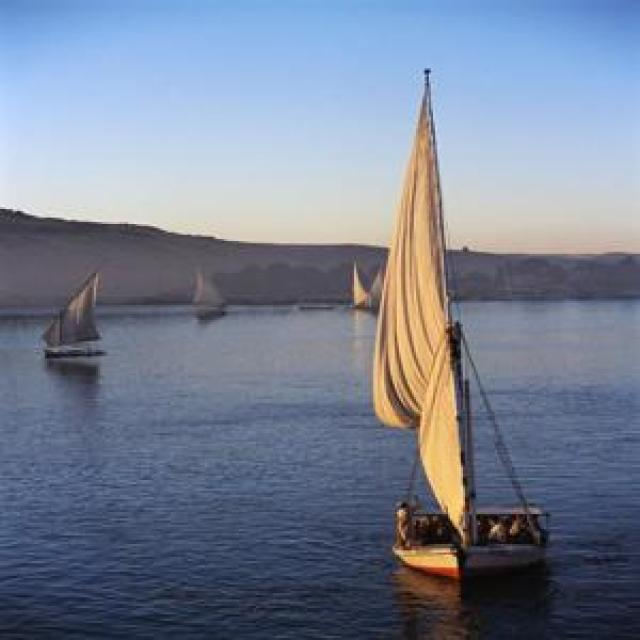sailboat: (371, 54, 546, 575), (36, 262, 104, 360), (186, 259, 225, 320), (342, 254, 374, 310)
